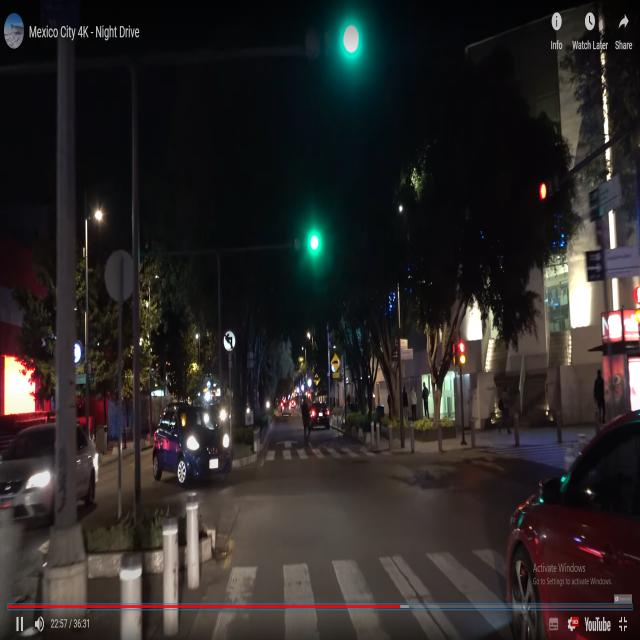headlights: (182, 429, 237, 461)
